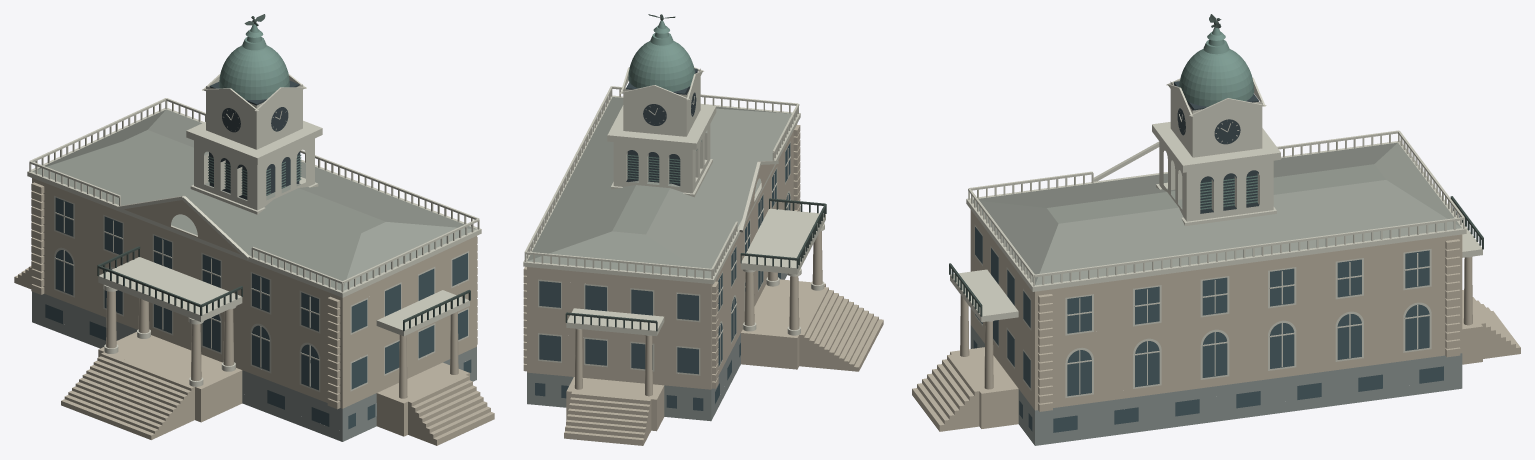
The model's file is athens-city-hall-near.glb.
The picture shows the model from 3 angles, left to right: view 1: azimuth 30°, elevation 25°; view 2: azimuth 150°, elevation 25°; view 3: azimuth 270°, elevation 25°; orthographic projection. The views are drawn at different scales.
Visible parts, largest first — view 1: athens-city-hall-0-stone, athens-city-hall-0-trim, athens-city-hall-0-roof, athens-city-hall-0-glass, athens-city-hall-0-base, athens-city-hall-0-copper, athens-city-hall-0-clock, athens-city-hall-0-iron; view 2: athens-city-hall-0-stone, athens-city-hall-0-roof, athens-city-hall-0-trim, athens-city-hall-0-glass, athens-city-hall-0-copper, athens-city-hall-0-base, athens-city-hall-0-iron, athens-city-hall-0-clock; view 3: athens-city-hall-0-stone, athens-city-hall-0-roof, athens-city-hall-0-trim, athens-city-hall-0-glass, athens-city-hall-0-base, athens-city-hall-0-copper, athens-city-hall-0-clock, athens-city-hall-0-iron.
Part boxes in pixels (left/top/right/bottom): athens-city-hall-0-stone: left=14, top=178, right=494, bottom=445; athens-city-hall-0-trim: left=27, top=73, right=481, bottom=392; athens-city-hall-0-roof: left=32, top=109, right=476, bottom=290; athens-city-hall-0-glass: left=45, top=197, right=471, bottom=429; athens-city-hall-0-base: left=32, top=291, right=476, bottom=441; athens-city-hall-0-copper: left=208, top=24, right=301, bottom=195; athens-city-hall-0-clock: left=209, top=81, right=300, bottom=199; athens-city-hall-0-iron: left=97, top=14, right=470, bottom=331; athens-city-hall-0-stone: left=523, top=124, right=883, bottom=445; athens-city-hall-0-roof: left=527, top=97, right=793, bottom=278; athens-city-hall-0-trim: left=523, top=67, right=825, bottom=375; athens-city-hall-0-glass: left=535, top=143, right=790, bottom=410; athens-city-hall-0-copper: left=627, top=20, right=701, bottom=183; athens-city-hall-0-base: left=527, top=273, right=787, bottom=421; athens-city-hall-0-iron: left=565, top=14, right=826, bottom=331; athens-city-hall-0-clock: left=626, top=68, right=697, bottom=186; athens-city-hall-0-stone: left=912, top=210, right=1520, bottom=431; athens-city-hall-0-roof: left=973, top=142, right=1461, bottom=285; athens-city-hall-0-trim: left=950, top=77, right=1482, bottom=398; athens-city-hall-0-glass: left=973, top=227, right=1443, bottom=432; athens-city-hall-0-base: left=970, top=325, right=1462, bottom=445; athens-city-hall-0-copper: left=1179, top=27, right=1257, bottom=209; athens-city-hall-0-clock: left=1174, top=81, right=1258, bottom=213; athens-city-hall-0-iron: left=949, top=14, right=1483, bottom=316.
Size of the model in its own units: 32.27 by 30.18 by 46.73.
